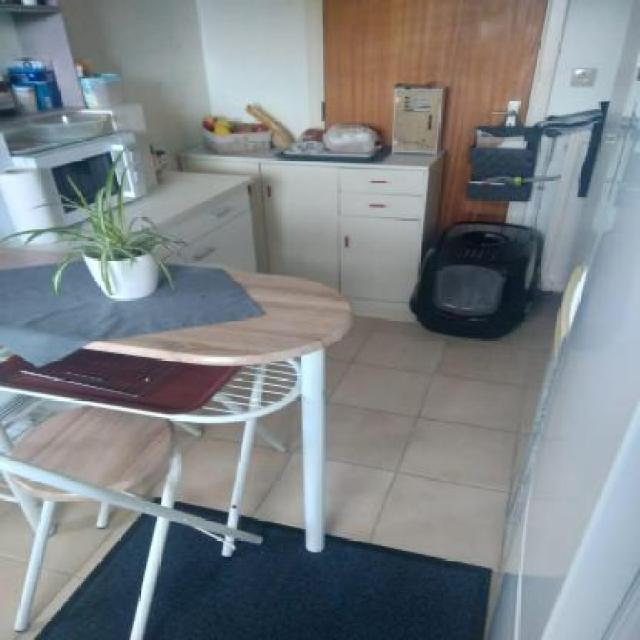Floor: (323, 288, 564, 638), (0, 499, 140, 639), (241, 395, 304, 529), (174, 422, 245, 512), (124, 460, 170, 501)
